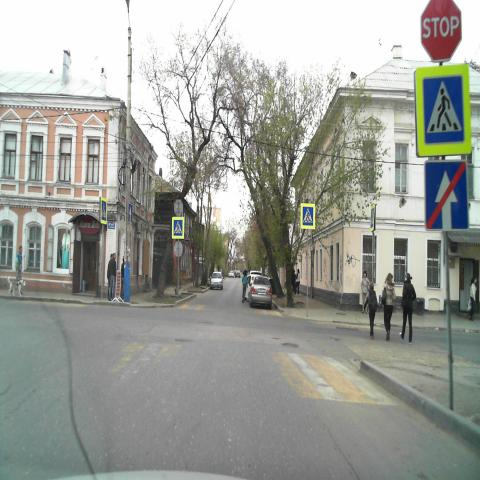2_5: (419, 0, 462, 65)
5_19_1: (414, 66, 472, 158), (300, 203, 316, 229), (171, 217, 184, 238), (99, 198, 108, 225), (368, 205, 376, 233)
5_5: (128, 203, 132, 222)
5_6: (425, 161, 469, 231)
